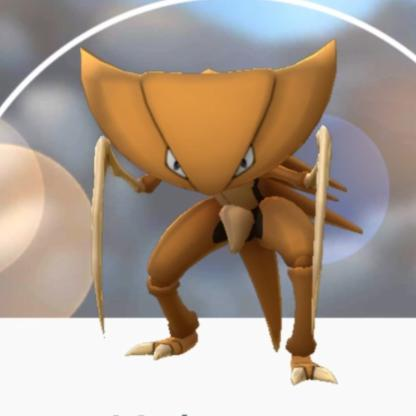Kabutops: (78, 45, 369, 390)
